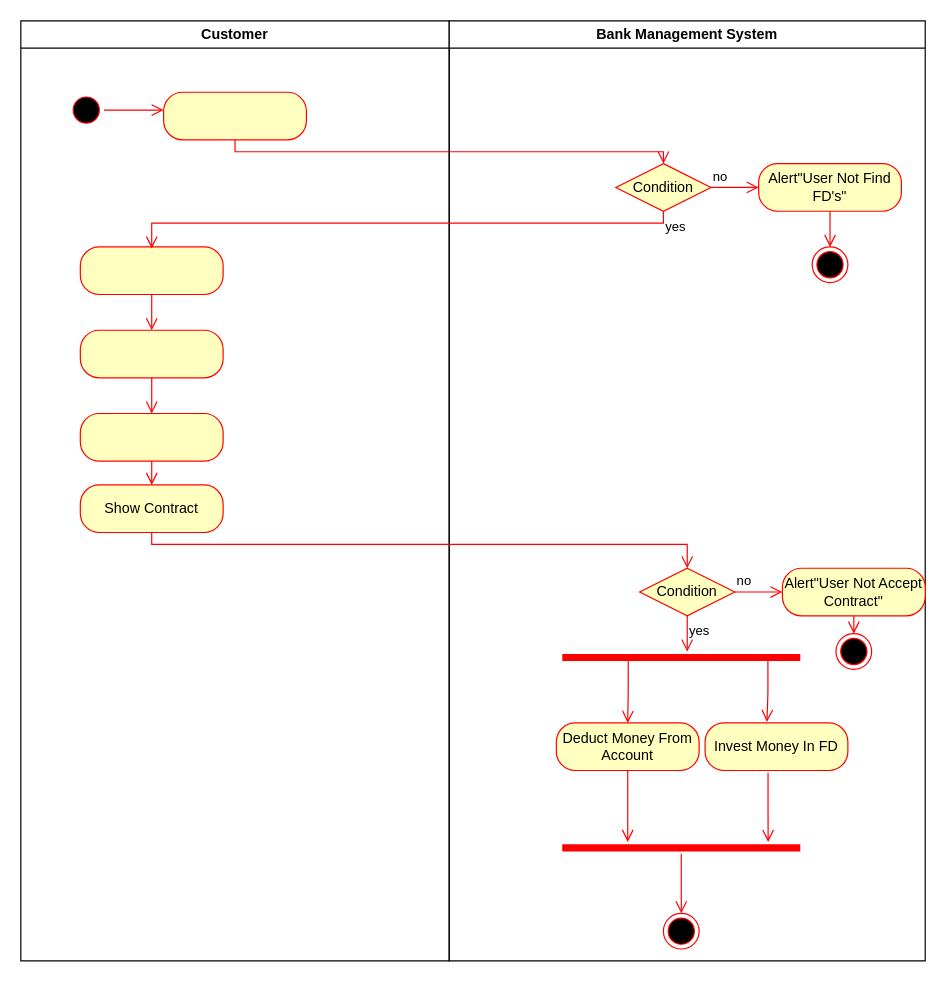
This 946x982 diagram has some shape labels left out. Each missing label, with the centre of its shape:
"Activity" belongs at [234,115].
"Invest Money in FD's" belongs at [151,436].
"See The Details Of the FD's" belongs at [151,353].
"Select The FD's" belongs at [151,270].
